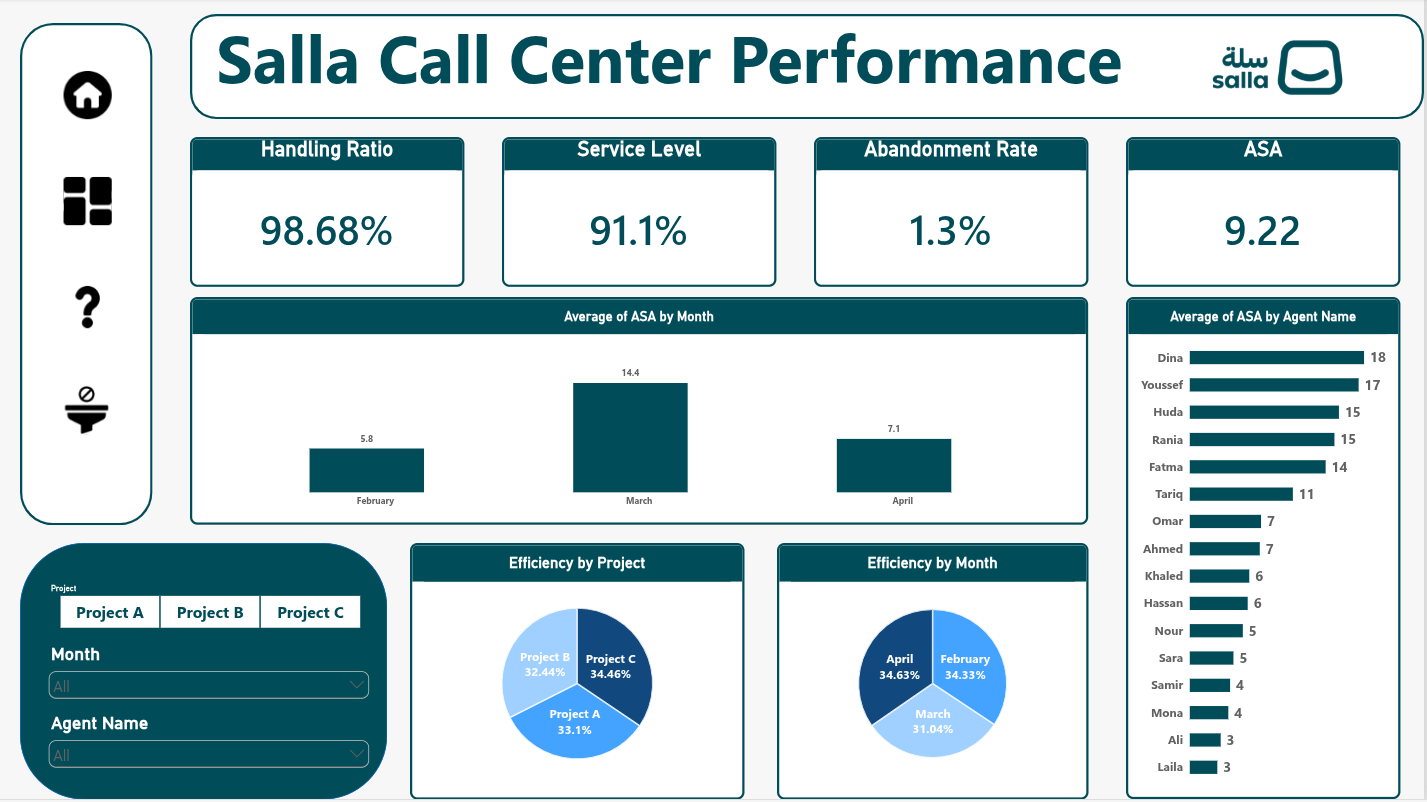

The page's visual inventory and layout, read from the dashboard file:
{"tool":"powerbi","page":{"name":"Overview","canvas":[1920,1080],"ordinal":1},"visuals":[{"type":"shape","box":[255.8,22.1,1663.8,141.7],"z":0},{"type":"image","box":[1599.4,33.1,246.6,119.6],"z":1000},{"type":"textbox","box":[154.6,0,1494.5,165.6],"z":2000},{"type":"shape","box":[27.6,33.1,178.5,677.3],"z":3000},{"type":"cardVisual","title":"Handling Ratio","fields":{"Data":["data.Handling call ratio"]},"box":[255.8,187.7,369.9,202.5],"z":4000},{"type":"cardVisual","title":"Service Level","fields":{"Data":["data.Service Level"]},"box":[676.7,187.7,369.9,202.5],"z":5000},{"type":"cardVisual","title":"ASA","fields":{"Data":["Avg(data.ASA)"]},"box":[1518.4,187.7,369.9,202.5],"z":6000},{"type":"cardVisual","title":"Abandonment Rate","fields":{"Data":["data.Abandonment Rate"]},"box":[1097.6,187.7,369.9,202.5],"z":7000},{"type":"columnChart","title":"Average of ASA by Month","fields":{"Category":["data.Date.Variation.Date Hierarchy.Month","data.Day name"],"Y":["Avg(data.ASA)"]},"box":[255.8,403.1,1211,307.4],"z":8000},{"type":"pieChart","fields":{"Category":["data.Project"],"Y":["data.Efficiency"]},"box":[552.2,734.4,450.9,346],"z":9000},{"type":"pieChart","fields":{"Category":["data.Date.Variation.Date Hierarchy.Month"],"Y":["data.Efficiency"]},"box":[1047.2,734.4,419.6,346],"z":10000},{"type":"barChart","fields":{"Category":["data.Agent Name"],"Y":["Avg(data.ASA)"]},"box":[1518.4,403.1,369.9,677.3],"z":11000},{"type":"actionButton","box":[60.7,93.9,114.1,69.9],"z":12000},{"type":"actionButton","box":[60.7,379.8,114.1,69.9],"z":14000},{"type":"actionButton","box":[60.7,236.8,114.1,69.9],"z":15000},{"type":"actionButton","box":[59.7,519.5,114.1,69.9],"z":16000},{"type":"shape","box":[27.6,734.4,495.1,346],"z":17000},{"type":"slicer","fields":{"Values":["data.Date.Variation.Date Hierarchy.Month"]},"box":[60.7,874.2,441.7,92],"z":18000},{"type":"slicer","fields":{"Values":["data.Project"]},"box":[60.7,789.6,443.6,60.7],"z":18001},{"type":"slicer","fields":{"Values":["data.Agent Name"]},"box":[60.7,966.3,441.7,92],"z":18002}]}

Visuals, with their boxes in screenshot pixels (x1, y1, x2, y2), scaled from the page's 1920x1080 canvas onto the 1427x802 screenshot:
shape: [left=190, top=16, right=1426, bottom=122]
image: [left=1189, top=25, right=1372, bottom=113]
textbox: [left=115, top=0, right=1226, bottom=123]
shape: [left=21, top=25, right=153, bottom=528]
"Handling Ratio" cardVisual: [left=190, top=139, right=465, bottom=290]
"Service Level" cardVisual: [left=503, top=139, right=778, bottom=290]
"ASA" cardVisual: [left=1129, top=139, right=1403, bottom=290]
"Abandonment Rate" cardVisual: [left=816, top=139, right=1091, bottom=290]
"Average of ASA by Month" columnChart: [left=190, top=299, right=1090, bottom=528]
pieChart - data.Project x data.Efficiency: [left=410, top=545, right=746, bottom=801]
pieChart - data.Date.Variation.Date Hierarchy.Month x data.Efficiency: [left=778, top=545, right=1090, bottom=801]
barChart - data.Agent Name x Avg(data.ASA): [left=1129, top=299, right=1403, bottom=801]
actionButton: [left=45, top=70, right=130, bottom=122]
actionButton: [left=45, top=282, right=130, bottom=334]
actionButton: [left=45, top=176, right=130, bottom=228]
actionButton: [left=44, top=386, right=129, bottom=438]
shape: [left=21, top=545, right=388, bottom=801]
slicer - data.Date.Variation.Date Hierarchy.Month: [left=45, top=649, right=373, bottom=717]
slicer - data.Project: [left=45, top=586, right=375, bottom=631]
slicer - data.Agent Name: [left=45, top=718, right=373, bottom=786]
